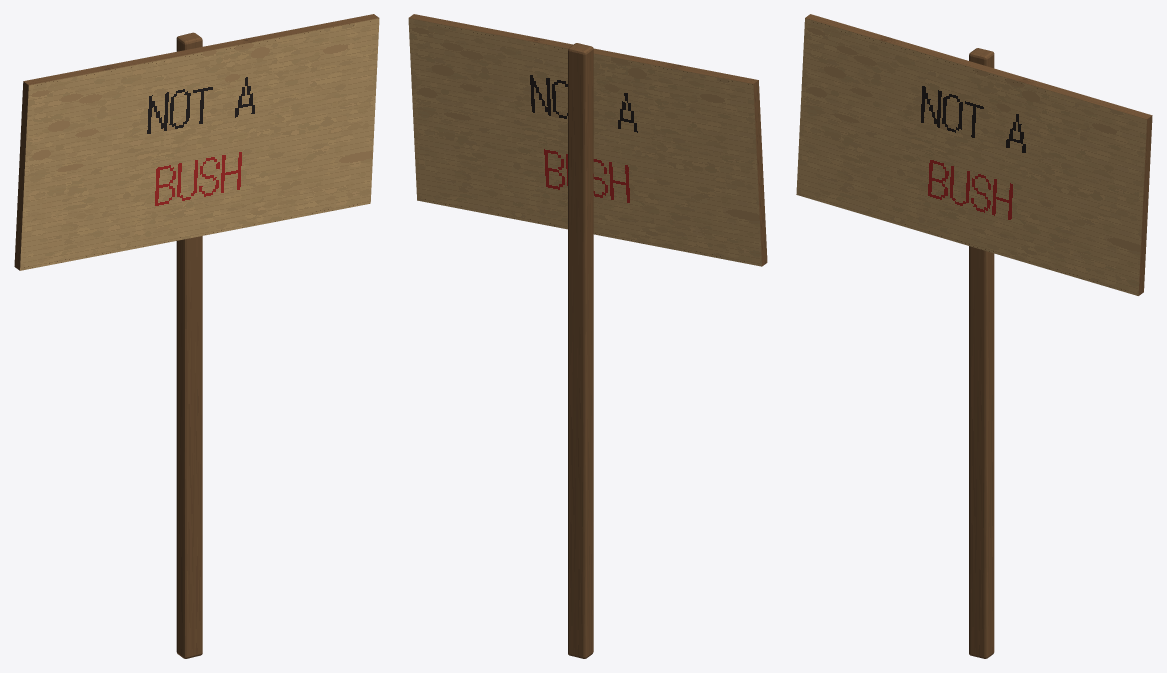
The model's file is bush_sign.glb.
The picture shows the model from 3 angles, left to right: view 1: azimuth 30°, elevation 25°; view 2: azimuth 150°, elevation 25°; view 3: azimuth 330°, elevation 25°; orthographic projection. The views are drawn at different scales.
Parts seen in each view (by area): view 1: box; view 2: box; view 3: box.
Boxes of the visible parts, <box> form: box: <box>14,14,379,658</box>; box: <box>408,14,767,658</box>; box: <box>796,14,1152,658</box>.
Size of the model in its own units: 0.4504 by 0.7409 by 0.032.
Materials: 2 (2 with a texture image).
